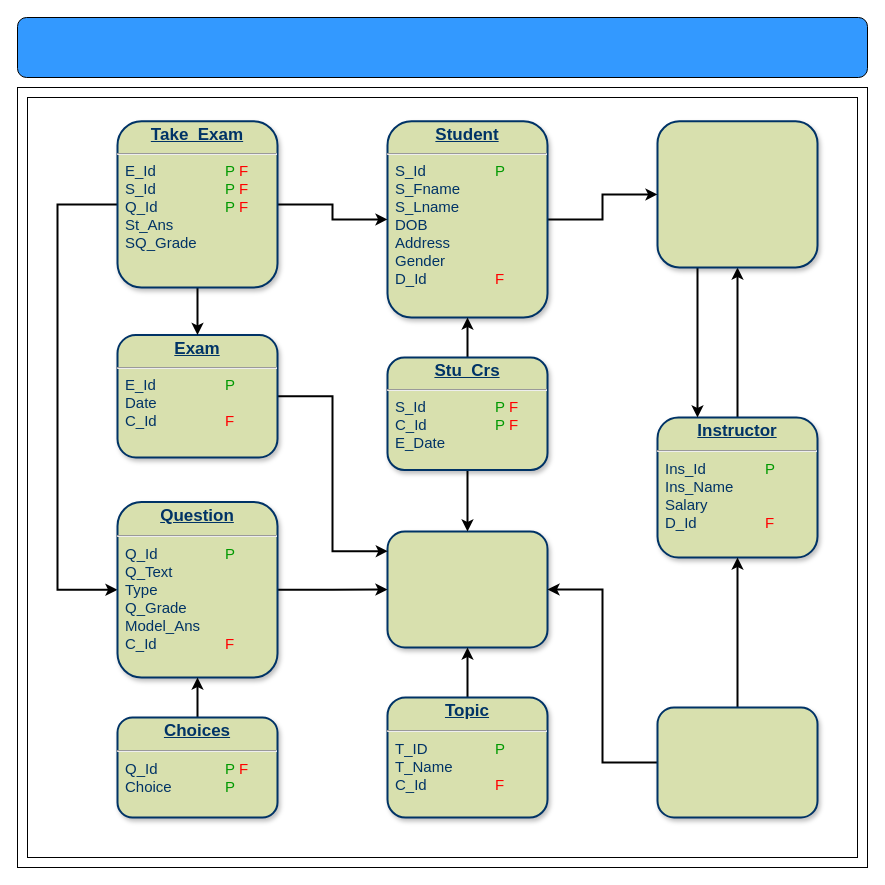
Some shapes in this 885 by 885 pixel diagram are drawn without their labels. Each missing label, with the centre of its shape:
"Course C_Id P C_Name C_Duration" belongs at [468,590].
"Department D_Id P D_Name Mgr_Hiredate Mgr_Id F" belongs at [738,195].
"Examination System Mapping" belongs at [442,47].
"Ins_Crs Ins_Id P F C_Id P F" belongs at [738,763].
